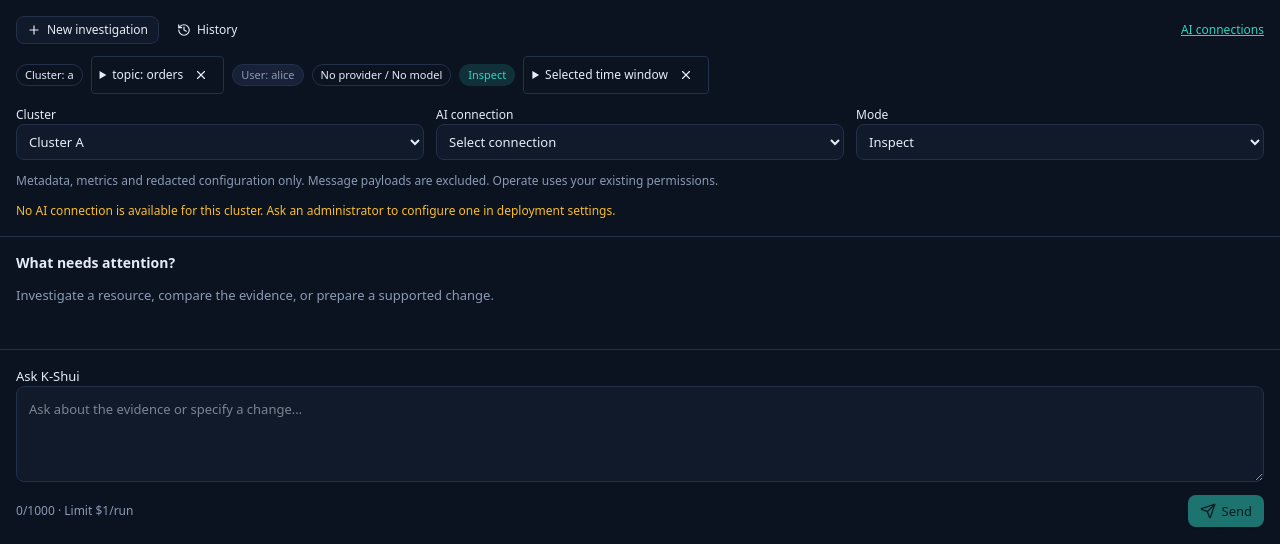
Test: scoped investigations › discards resource and time context when switching clusters
This screenshot has width=1280, height=544.
Select "Cluster B" in the dropdown named "Investigation cluster" at (220, 142), box [16,124,424,160]
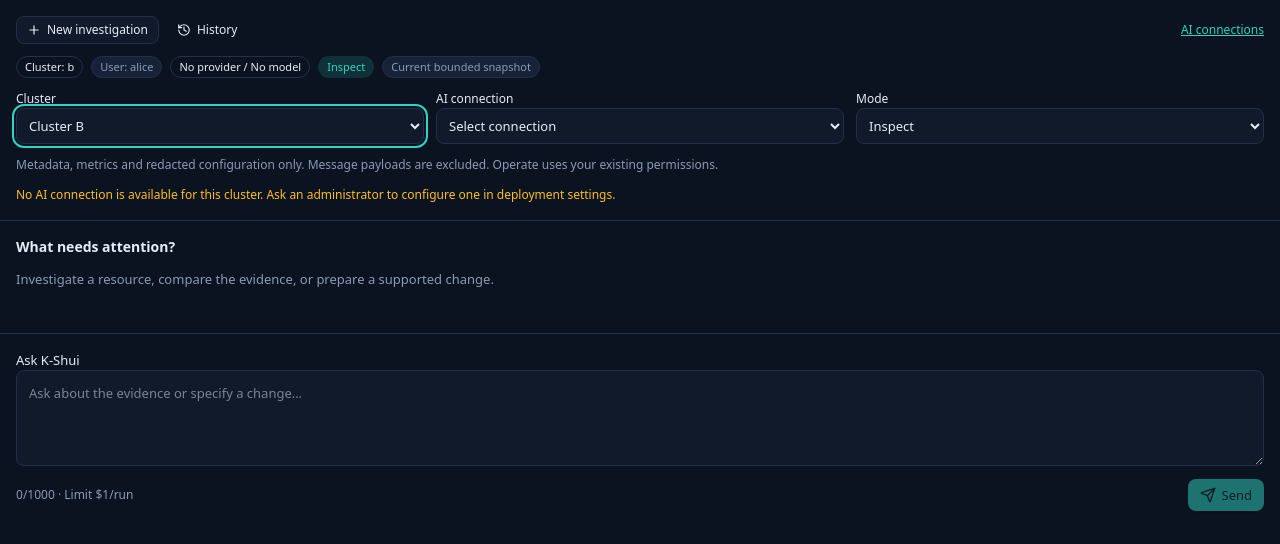
Expected: the heading "topic: orders" is gone
